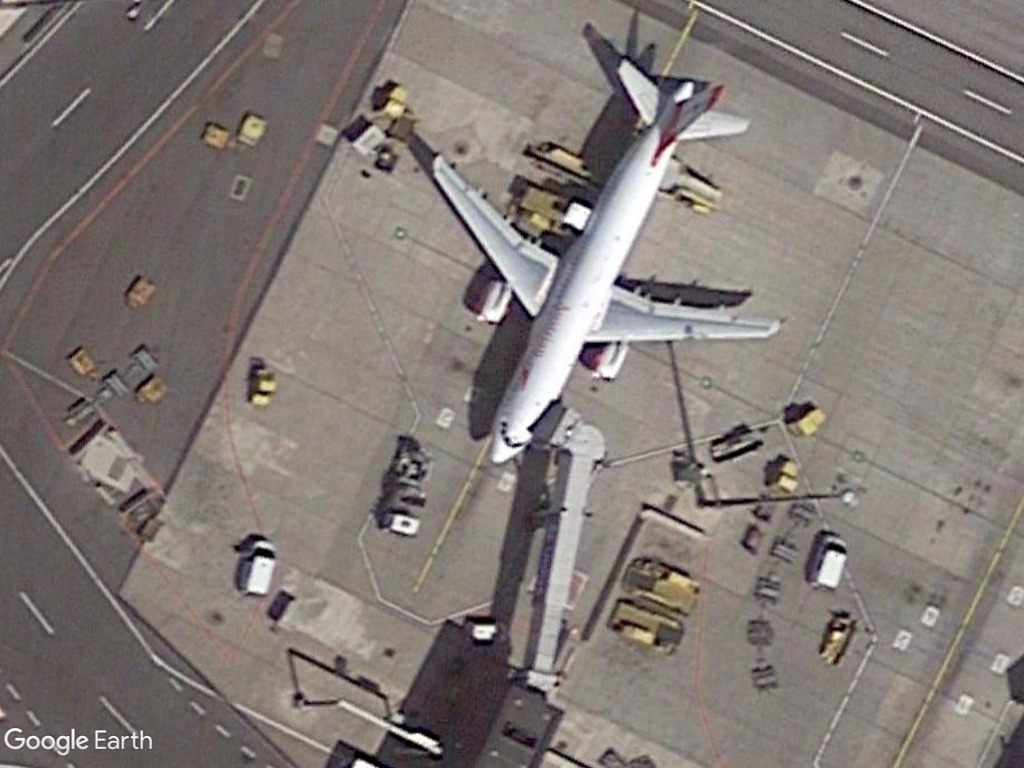airliner: (424, 55, 780, 471)
van: (238, 535, 281, 601), (806, 532, 849, 596)
